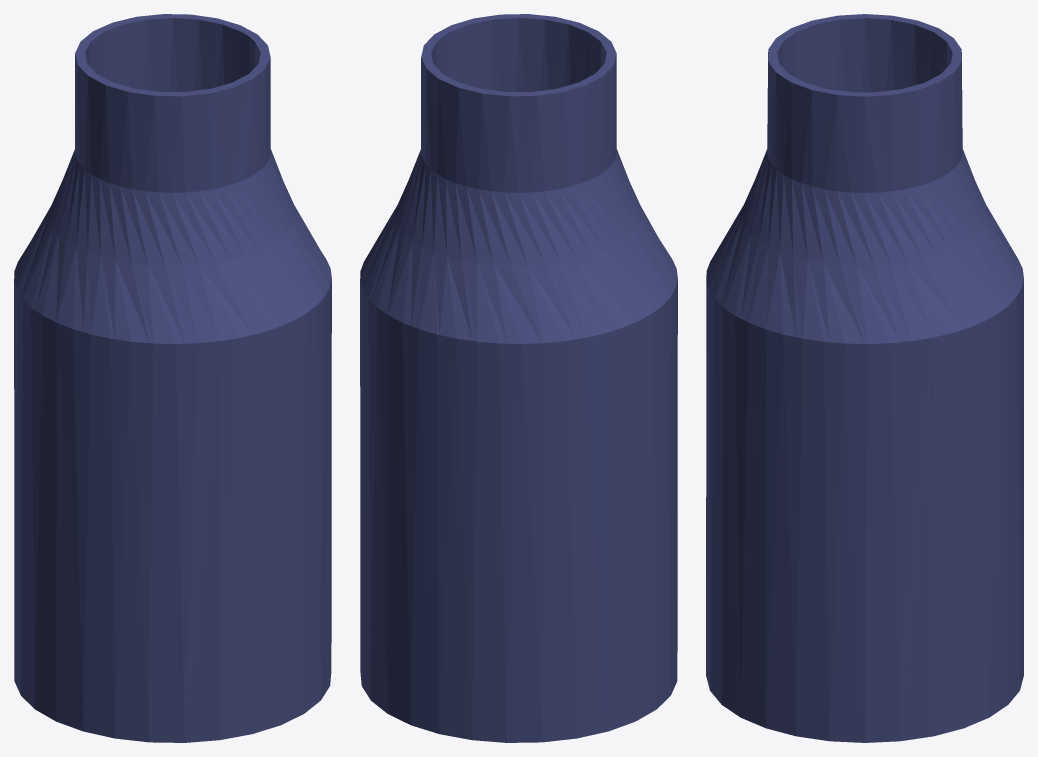
The model's file is bottle.dae.
3 renders of one model, left to right at view 1: azimuth 30°, elevation 25°; view 2: azimuth 150°, elevation 25°; view 3: azimuth 270°, elevation 25°, orthographic.
Parts seen in each view (by area): view 1: Bottle-250ml-pretty; view 2: Bottle-250ml-pretty; view 3: Bottle-250ml-pretty.
Part boxes in pixels (<box>): Bottle-250ml-pretty: <box>14,14,331,742</box>; Bottle-250ml-pretty: <box>360,14,677,742</box>; Bottle-250ml-pretty: <box>706,14,1023,742</box>.
Size of the model in its own units: 0.065 by 0.065 by 0.14.
